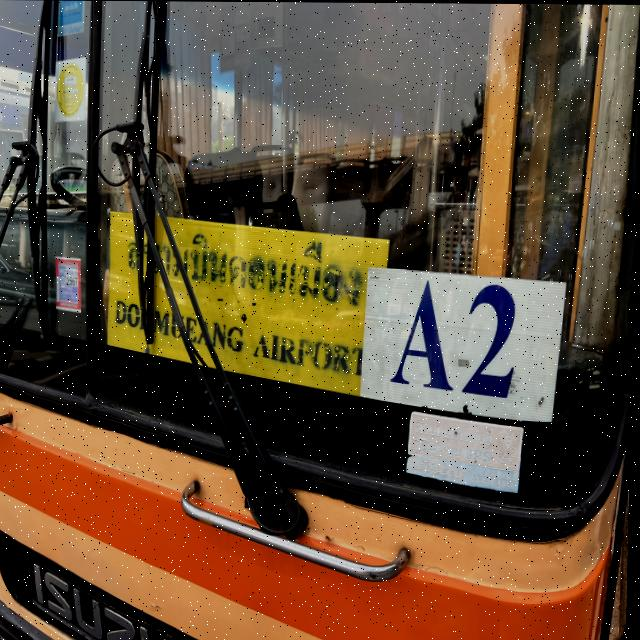BMTA-bus: (0, 0, 640, 640)
Destination-Sign-Normal-Expressway: (109, 202, 391, 406)
